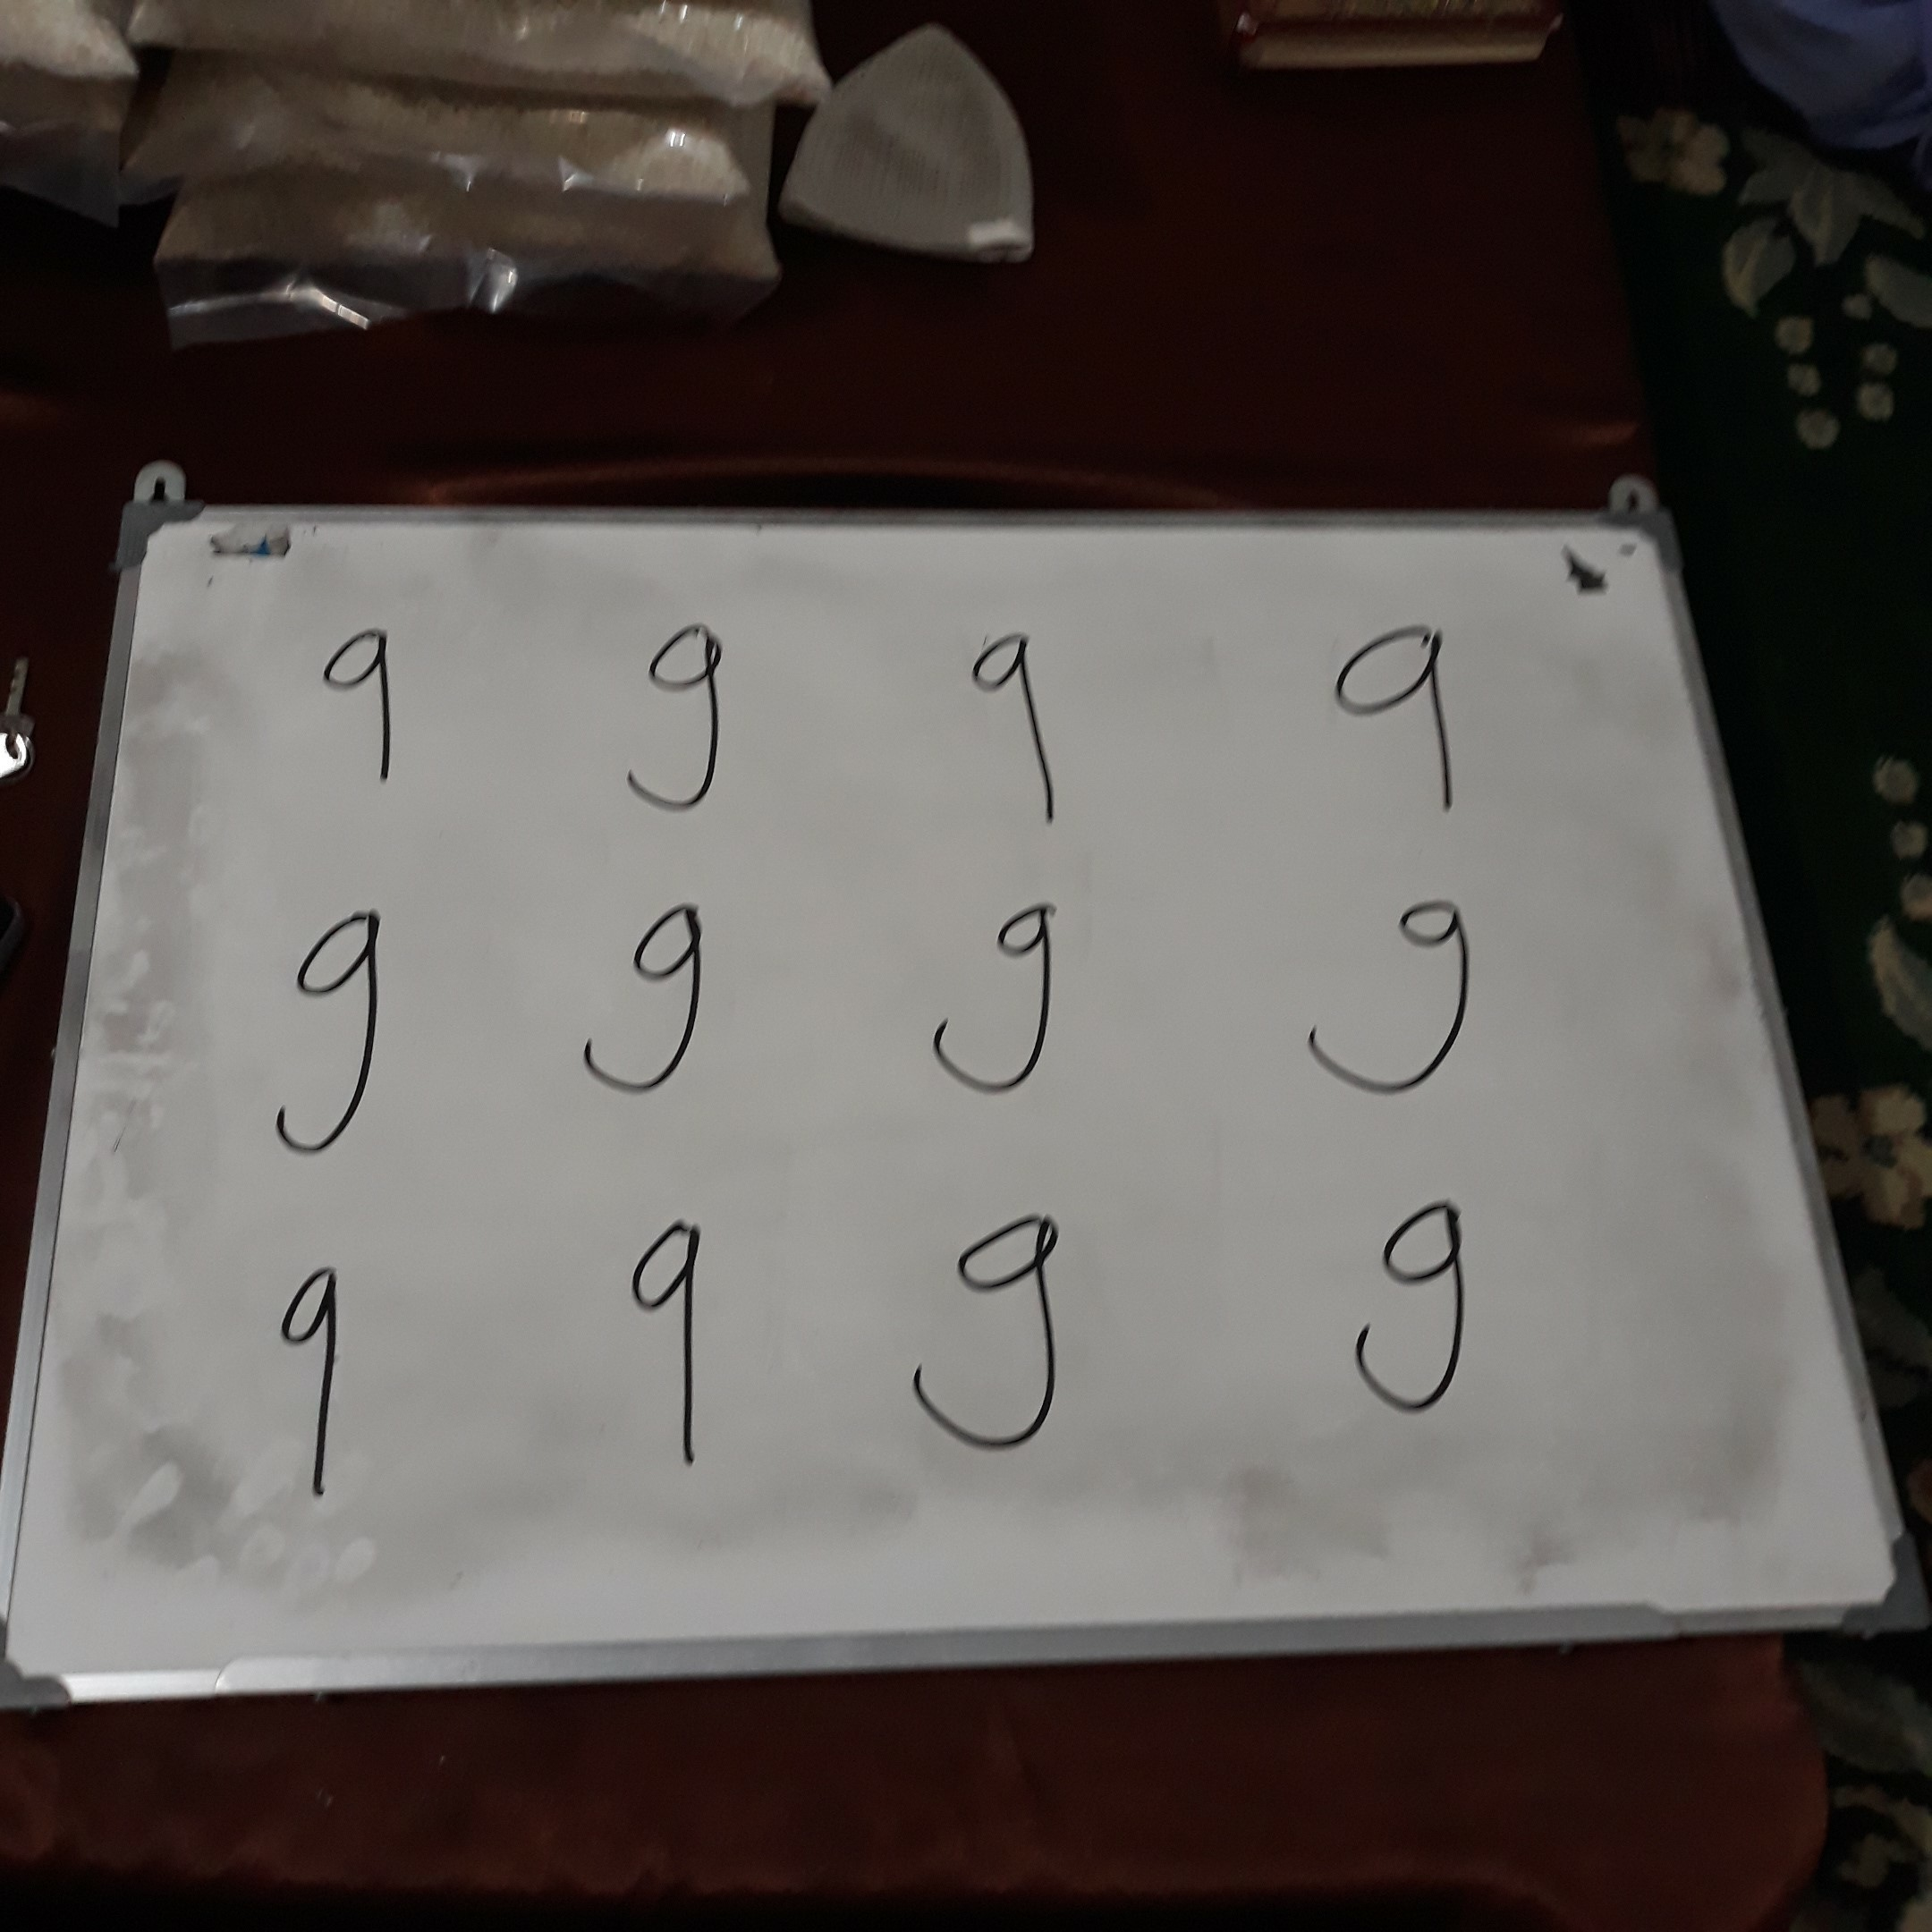num9: (893, 1201, 1083, 1458), (1285, 879, 1489, 1106), (1338, 1185, 1489, 1420), (265, 894, 397, 1165), (1323, 606, 1484, 823), (915, 889, 1070, 1105), (572, 886, 727, 1102), (258, 1239, 368, 1516), (616, 1207, 725, 1485), (610, 620, 741, 834), (962, 613, 1072, 839), (308, 599, 427, 799)
